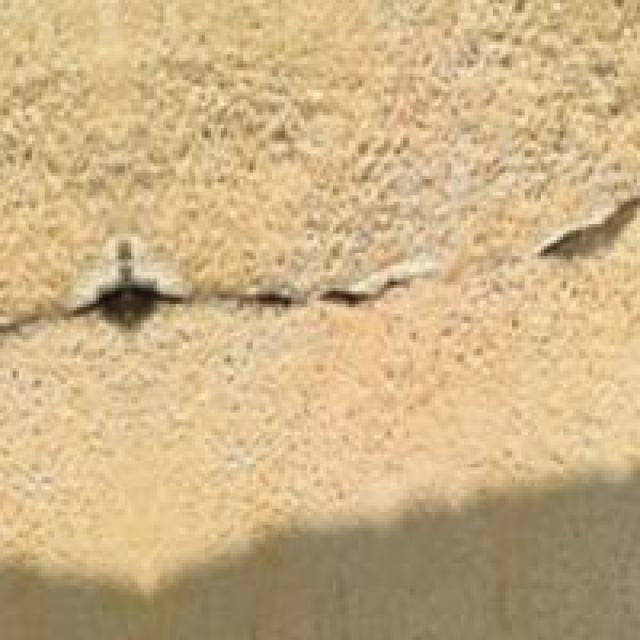SurfaceCrack: (24, 238, 426, 388), (522, 180, 640, 284)
